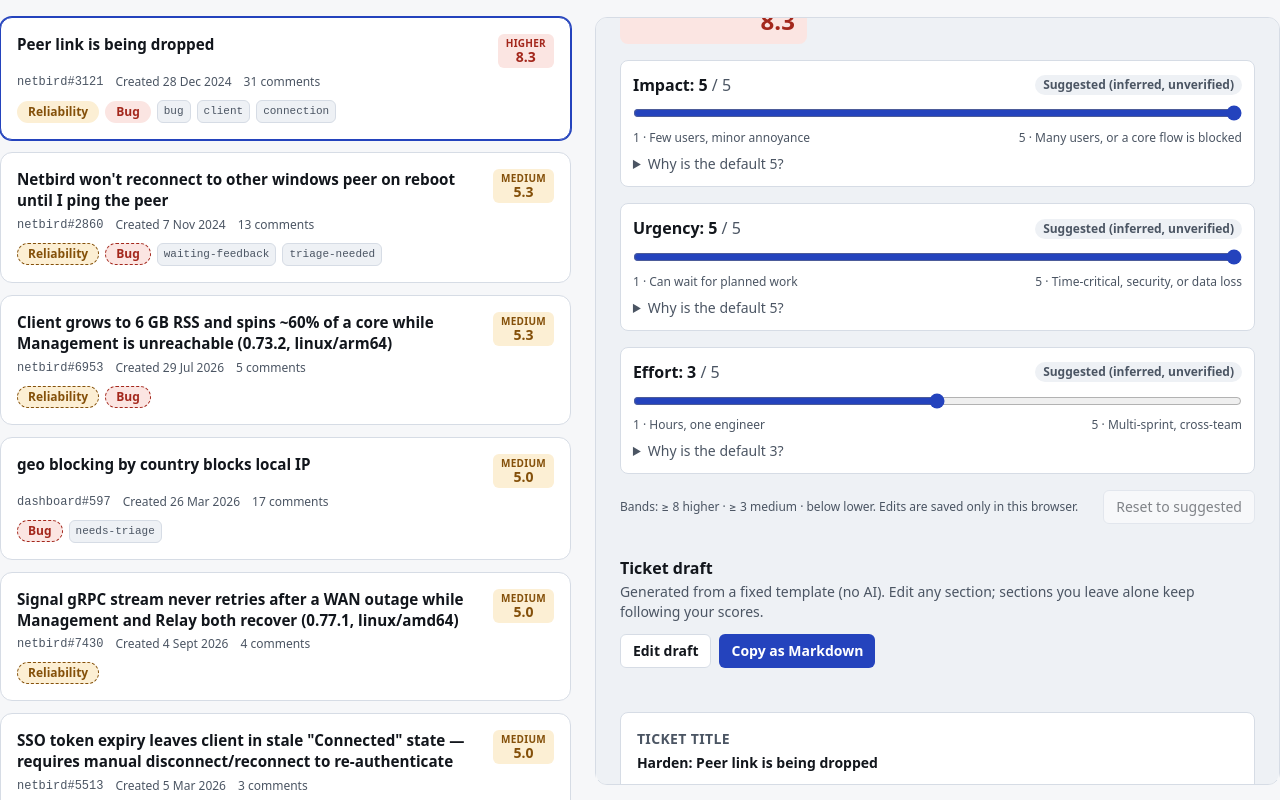
it: TriageBoard › lets the user edit a score, marks it as edited, saves it locally, and can reset
(page scrolled)
Check: the text "Suggested (inferred, unverified)" is shown 3 times, box top-left (1035, 75), bottom-right (1242, 95); top-left (1035, 218), bottom-right (1242, 238); top-left (1035, 362), bottom-right (1242, 382)
Set the slider labelled "Effort: 3 / 5" to "5": (1234, 400) top-left (633, 392), bottom-right (1242, 408)
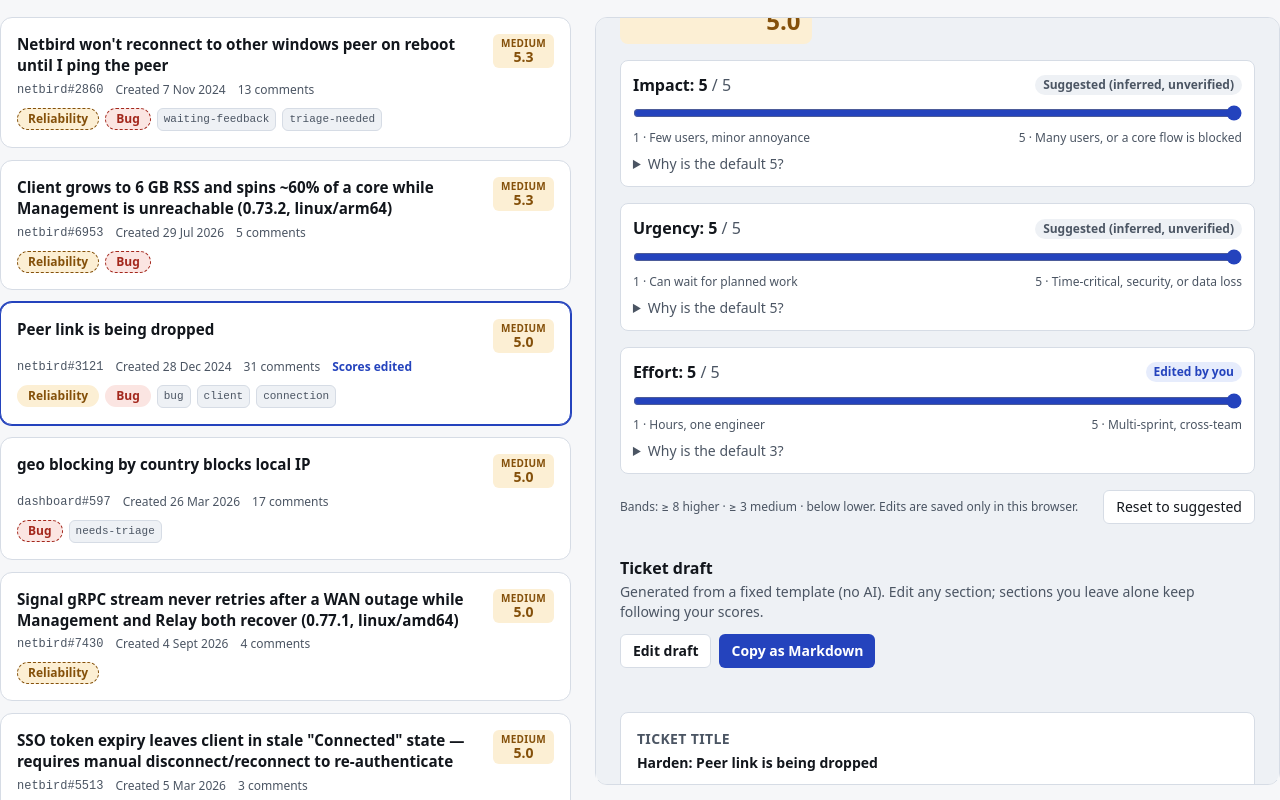
Check: the text "Suggested (inferred, unverified)" is shown 2 times, box top-left (1035, 75), bottom-right (1242, 95); top-left (1035, 218), bottom-right (1242, 238)
Check: the text "Edited by you" is shown, box top-left (1146, 362), bottom-right (1242, 382)
Click the button "Reset to suggested": (1179, 507) top-left (1103, 490), bottom-right (1255, 524)
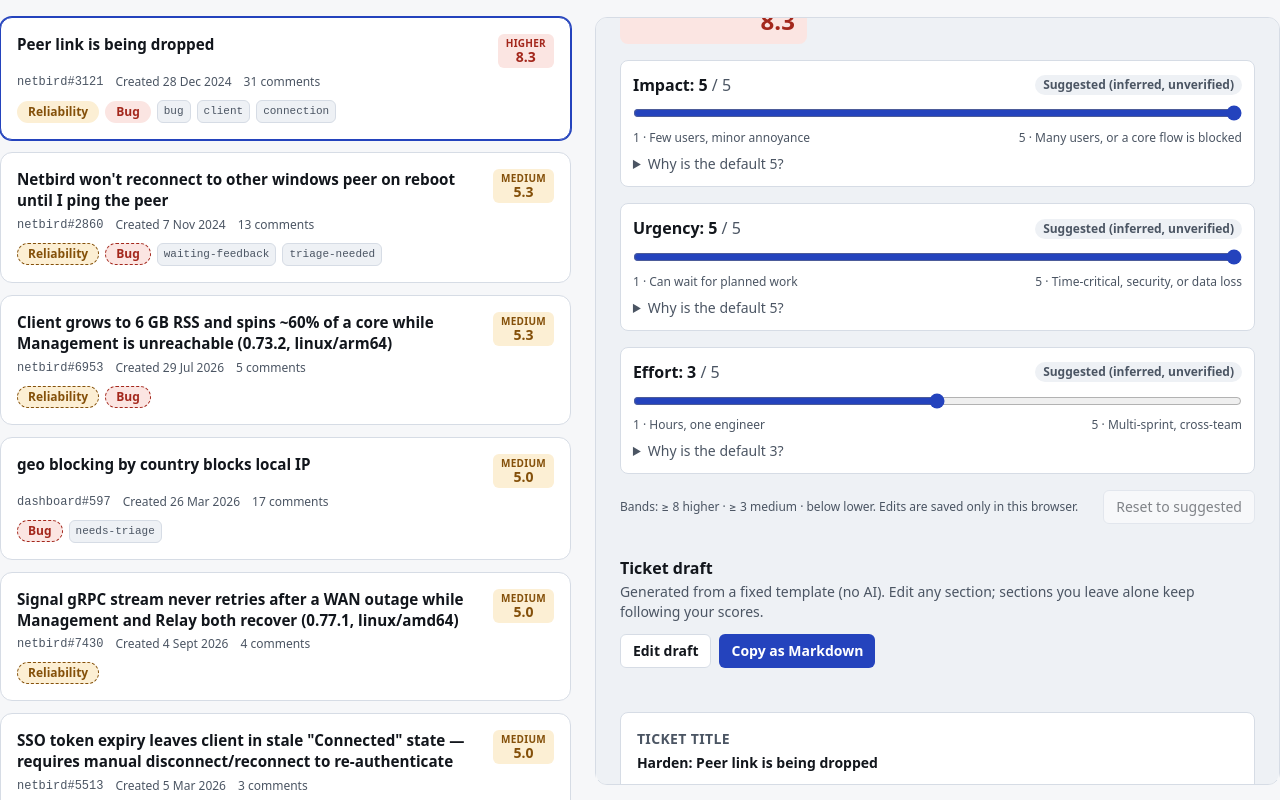
Check: the text "Edited by you" is gone
